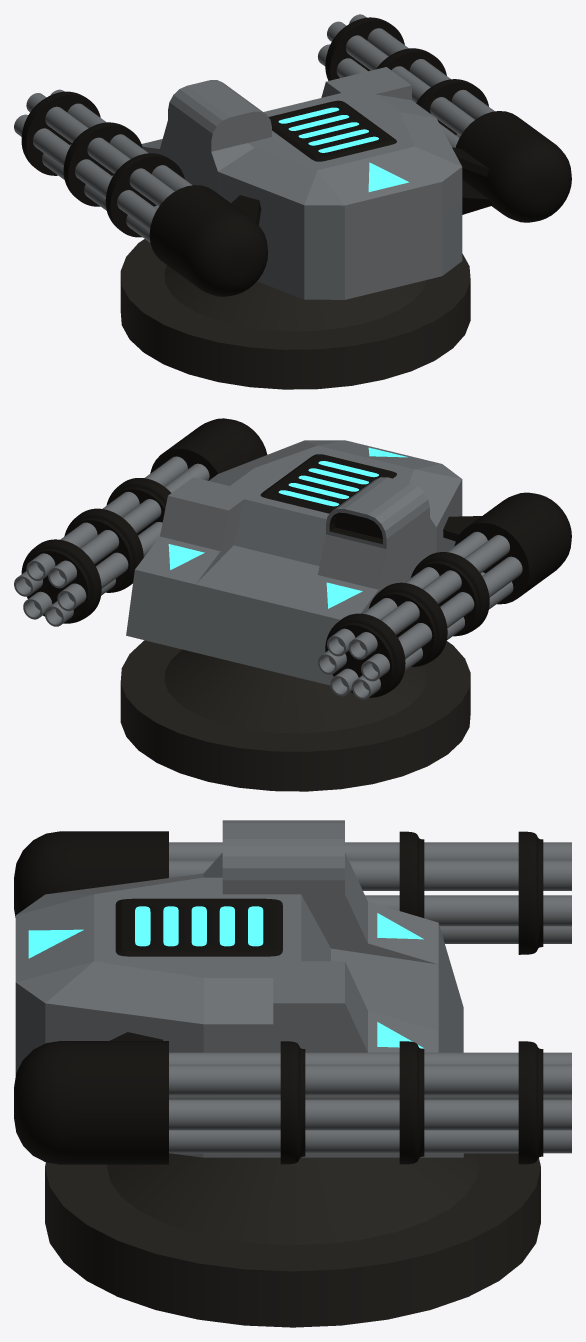
The model's file is gunner_FW.fbx.
The picture shows the model from 3 angles, top to bottom: view 1: azimuth 30°, elevation 25°; view 2: azimuth 150°, elevation 25°; view 3: azimuth 270°, elevation 25°; orthographic projection. The views are drawn at different scales.
Parts seen in each view (by area): view 1: Turret.001, Circle, Circle.002, barrels, Cylinder.001, vents, Plane, Circle.001; view 2: Turret.001, Circle, barrels, Cylinder.001, Circle.002, vents, Plane; view 3: Circle, Turret.001, barrels, Circle.002, Cylinder.001, vents, Plane, Circle.001.
Boxes of the visible parts, left/top/right/bottom form: Turret.001: left=141, top=67, right=462, bottom=299; Circle: left=120, top=239, right=470, bottom=389; Circle.002: left=149, top=111, right=571, bottom=296; barrels: left=14, top=14, right=494, bottom=242; Cylinder.001: left=21, top=17, right=488, bottom=237; vents: left=268, top=100, right=396, bottom=161; Plane: left=278, top=107, right=378, bottom=152; Circle.001: left=368, top=162, right=408, bottom=191; Turret.001: left=126, top=440, right=462, bottom=685; Circle: left=120, top=640, right=470, bottom=791; barrels: left=14, top=456, right=522, bottom=699; Cylinder.001: left=21, top=478, right=489, bottom=697; Circle.002: left=150, top=418, right=571, bottom=604; vents: left=260, top=454, right=396, bottom=513; Plane: left=278, top=461, right=378, bottom=506; Circle: left=45, top=1153, right=540, bottom=1327; Turret.001: left=15, top=820, right=463, bottom=1157; barrels: left=169, top=842, right=571, bottom=1153; Circle.002: left=14, top=831, right=168, bottom=1164; Cylinder.001: left=280, top=831, right=543, bottom=1164; vents: left=115, top=898, right=282, bottom=956; Plane: left=135, top=906, right=263, bottom=946; Circle.001: left=28, top=929, right=83, bottom=958.
Size of the model in its own units: 200 by 120 by 180.
